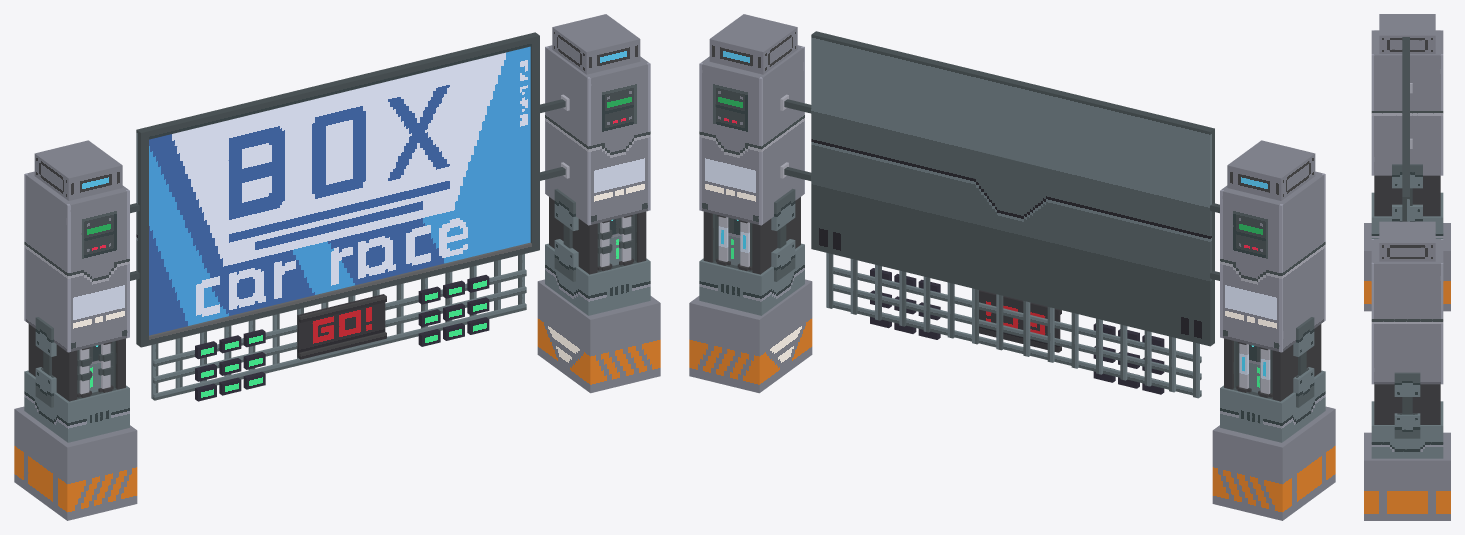
File: 模板起点.gltf
3 views of the same model, side by side, from view 1: azimuth 30°, elevation 25°; view 2: azimuth 150°, elevation 25°; view 3: azimuth 270°, elevation 25° (orthographic). The views are drawn at different scales.
Parts seen in each view (by area): view 1: Group-1; view 2: Group-1; view 3: Group-1.
Boxes of the visible parts, x1=… form: Group-1: x1=14, y1=14, x2=660, y2=520; Group-1: x1=689, y1=14, x2=1335, y2=520; Group-1: x1=1364, y1=14, x2=1450, y2=520.
Size of the model in its own units: 220 by 123 by 34.
Materials: 1 (1 with a texture image).
